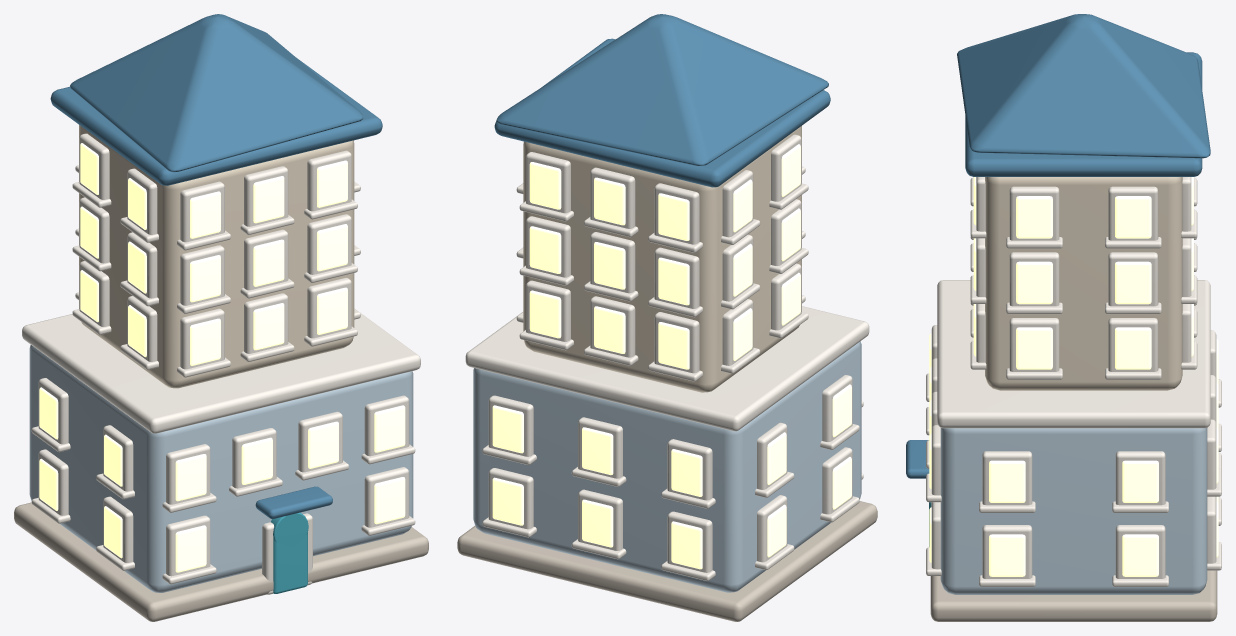
The picture shows the model from 3 angles, left to right: view 1: azimuth 30°, elevation 25°; view 2: azimuth 150°, elevation 25°; view 3: azimuth 270°, elevation 25°; orthographic projection. The views are drawn at different scales.
Parts seen in each view (by area): view 1: Cube; view 2: Cube; view 3: Cube.
Part boxes in pixels (<box>): Cube: <box>14,14,428,621</box>; Cube: <box>457,14,877,621</box>; Cube: <box>906,14,1221,621</box>.
Size of the model in its own units: 0.699 by 1.2 by 0.6395.
